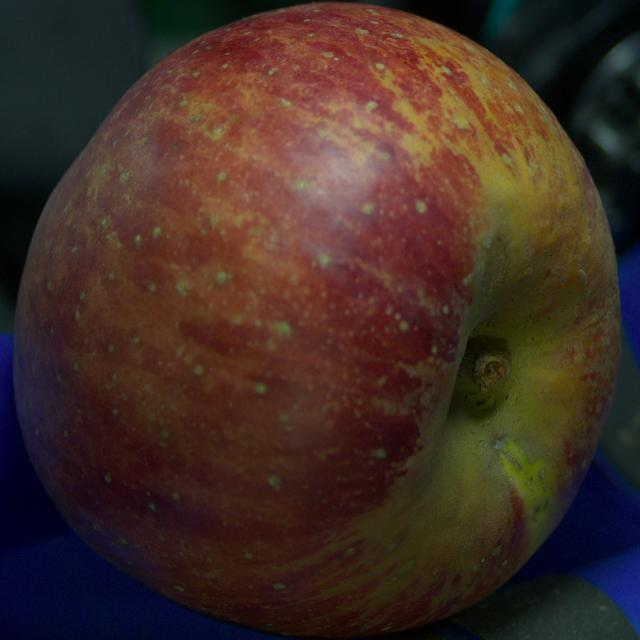apple: (14, 3, 620, 636)
